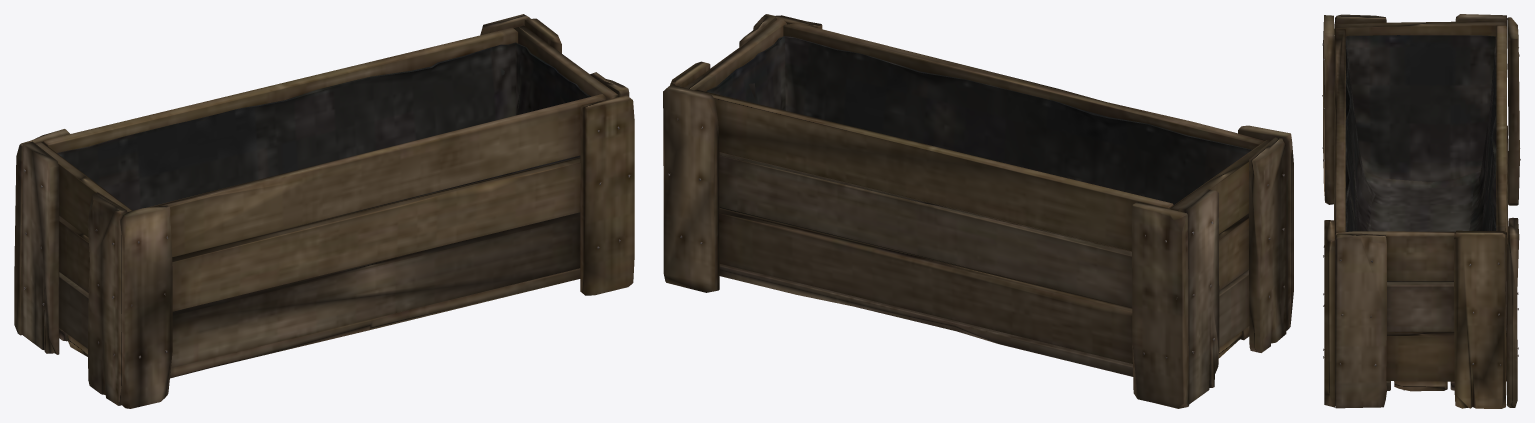
File: planter_box_02.gltf
3 renders of one model, left to right at view 1: azimuth 30°, elevation 25°; view 2: azimuth 150°, elevation 25°; view 3: azimuth 270°, elevation 25°, orthographic. The views are drawn at different scales.
Visible parts, largest first — view 1: planter_box_02; view 2: planter_box_02; view 3: planter_box_02.
Boxes of the visible parts, <box> form: planter_box_02: <box>14,14,634,408</box>; planter_box_02: <box>663,14,1293,408</box>; planter_box_02: <box>1322,14,1520,408</box>.
Size of the model in its own units: 1.25 by 0.4514 by 0.467.
1 material, 1 textured.
